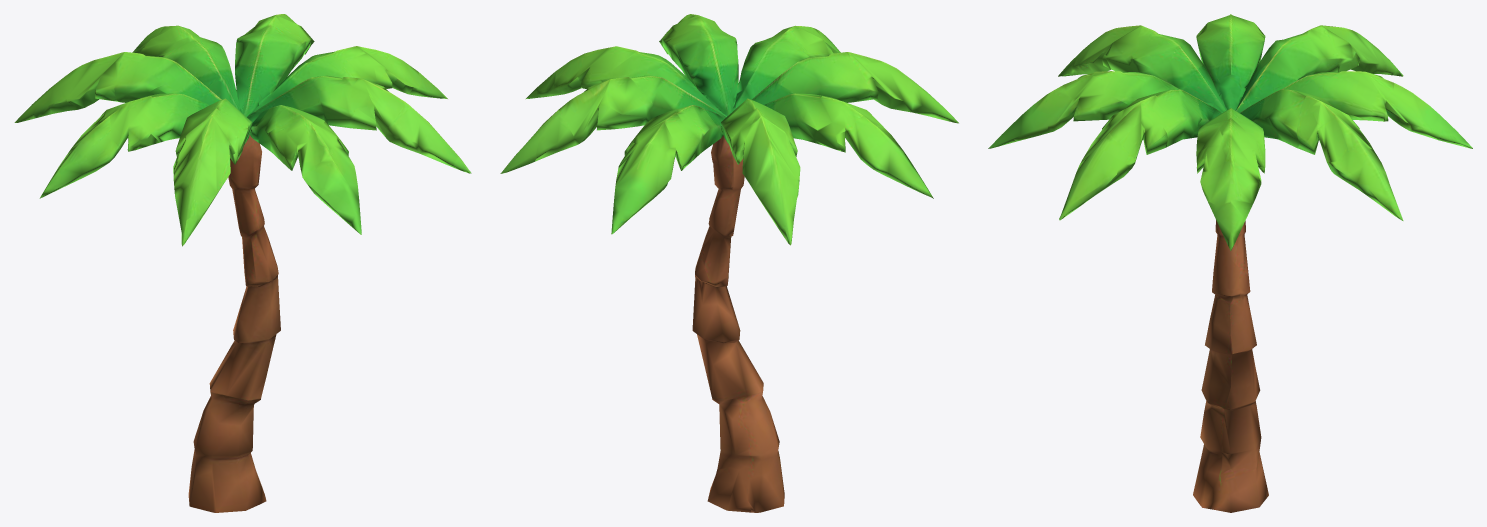
The model's file is palmier.glb.
3 views of the same model, side by side, from view 1: azimuth 30°, elevation 25°; view 2: azimuth 150°, elevation 25°; view 3: azimuth 270°, elevation 25° (orthographic). The views are drawn at different scales.
Parts seen in each view (by area): view 1: mesh_node; view 2: mesh_node; view 3: mesh_node.
Part boxes in pixels (x1,y1,x2,y2): mesh_node: (14, 14, 471, 512); mesh_node: (500, 14, 958, 512); mesh_node: (988, 14, 1472, 512).
Size of the model in its own units: 1.9 by 1.9 by 1.89.
1 material, 1 textured.
